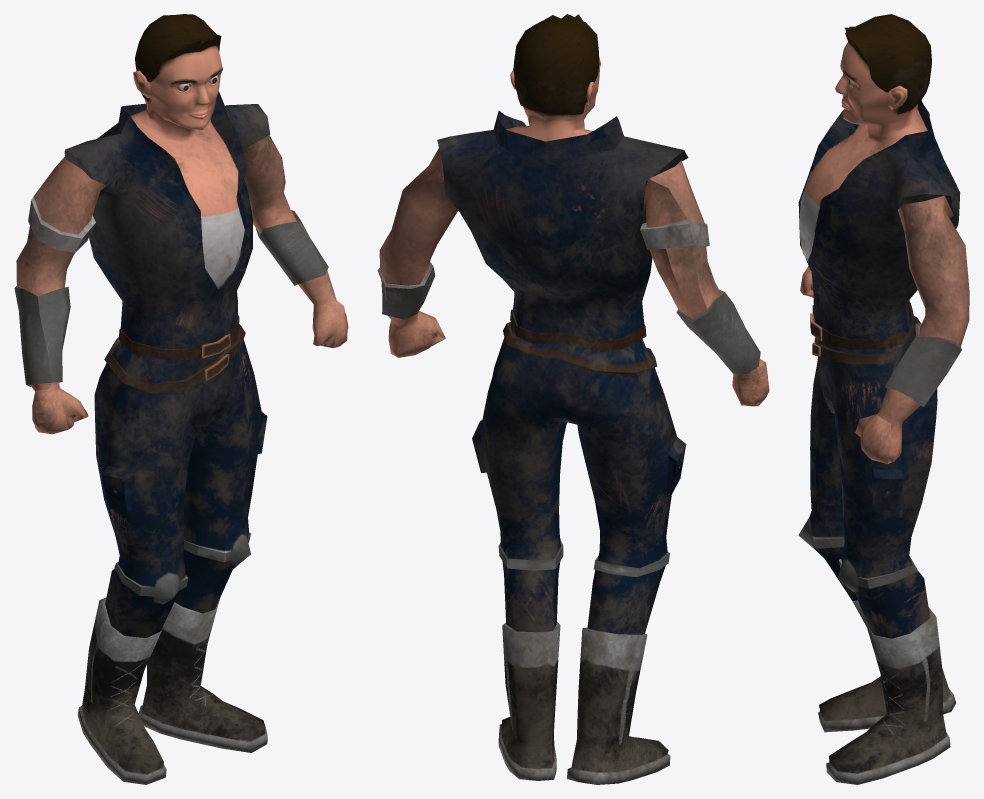
Rendered from Anim_abrir_puerta_ok_jugador.0017.obj.
The picture shows the model from 3 angles, left to right: view 1: azimuth 30°, elevation 25°; view 2: azimuth 150°, elevation 25°; view 3: azimuth 270°, elevation 25°; orthographic projection. The views are drawn at different scales.
Parts seen in each view (by area): view 1: polySurface1; view 2: polySurface1; view 3: polySurface1.
Boxes of the visible parts, x1,y1,x2,y2 form: polySurface1: [14, 14, 348, 784]; polySurface1: [377, 14, 769, 784]; polySurface1: [798, 14, 969, 784].
Bounding box in the file's own units: 4.72 × 9.6 × 2.03.
